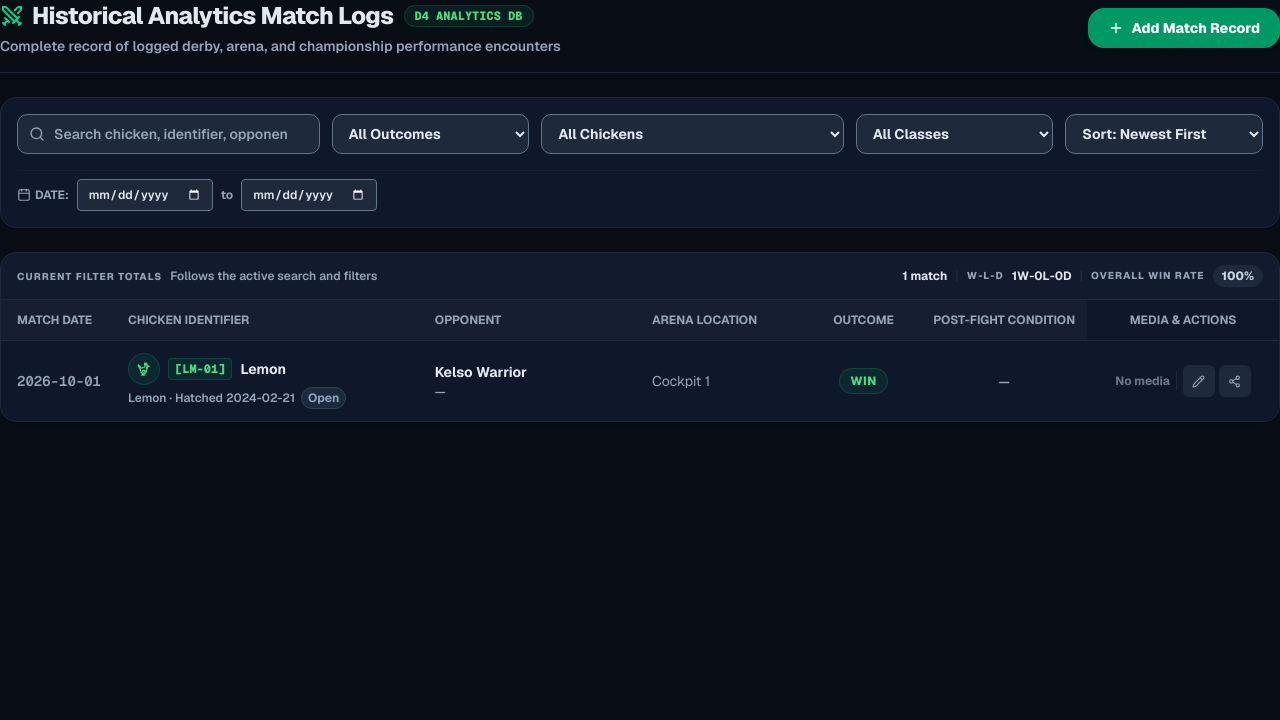
Test: Match Logs entry points › Chicken Registry > Match Logs tab: the pencil opens the inline editor
Check: the text "Lemon" is shown, box [240,359,286,379]
Click the button named "Edit match record" at {"x": 1199, "y": 381}, box [1183,365,1215,397]
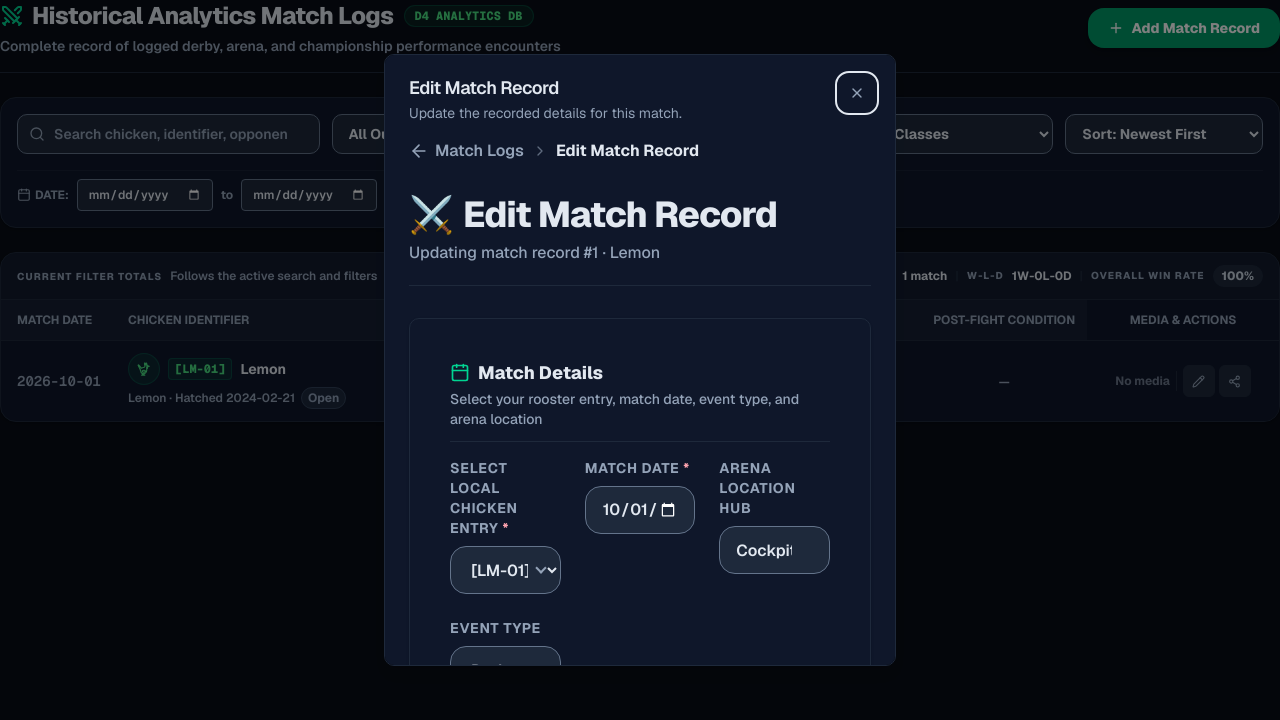
Check: the dialog "Edit Match Record" is shown, box [384,54,896,666]
